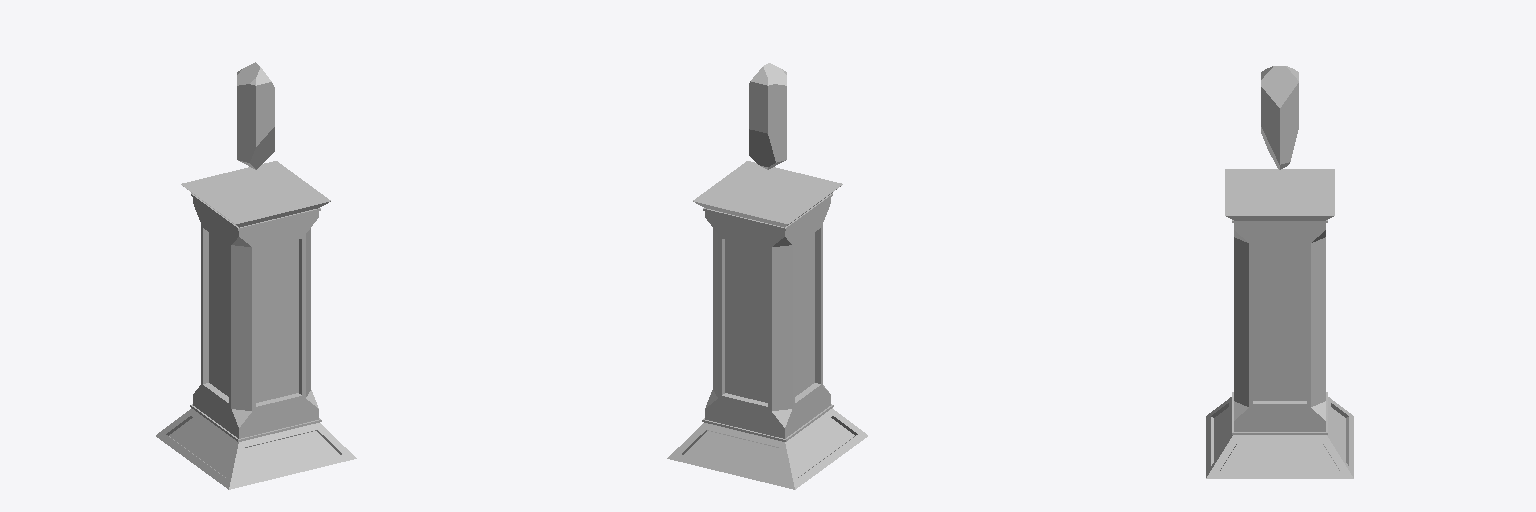
The model's file is pedestal.obj.
3 renders of one model, left to right at view 1: azimuth 30°, elevation 25°; view 2: azimuth 150°, elevation 25°; view 3: azimuth 270°, elevation 25°, orthographic.
Parts seen in each view (by area): view 1: Pedestal, Gem; view 2: Pedestal, Gem; view 3: Pedestal, Gem.
Boxes of the visible parts, x1,y1,x2,y2 form: Pedestal: [156, 161, 356, 489]; Gem: [237, 62, 274, 169]; Pedestal: [667, 161, 867, 489]; Gem: [749, 63, 786, 169]; Pedestal: [1206, 169, 1353, 478]; Gem: [1261, 66, 1298, 169].
Bounding box in the file's own units: 192 × 548 × 192.